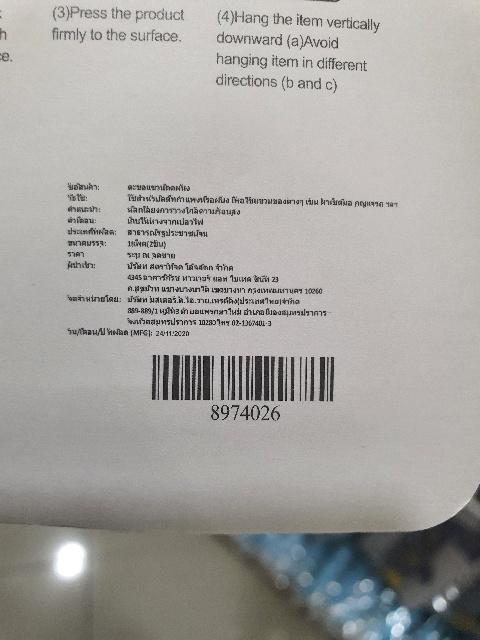Barcode: (144, 346, 344, 427)
